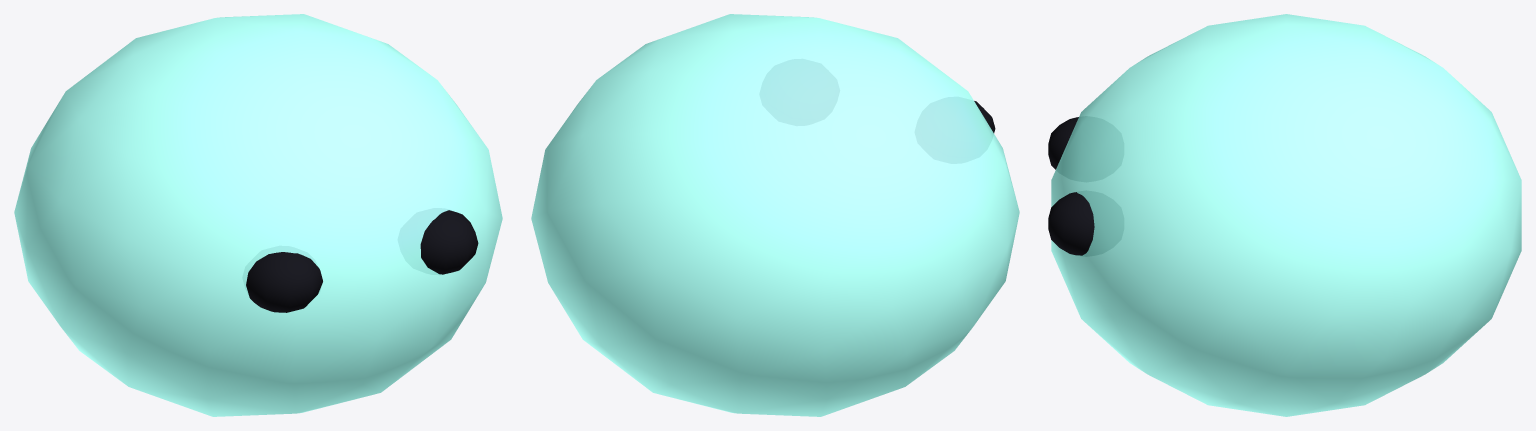
File: butoijo.glb
3 views of the same model, side by side, from view 1: azimuth 30°, elevation 25°; view 2: azimuth 150°, elevation 25°; view 3: azimuth 270°, elevation 25° (orthographic).
Visible parts, largest first — view 1: core; view 2: core; view 3: core.
Part boxes in pixels (x1=…): core: x1=14, y1=14, x2=502, y2=416; core: x1=531, y1=14, x2=1019, y2=416; core: x1=1048, y1=14, x2=1521, y2=416.
Size of the model in its own units: 1.18 by 0.9403 by 1.18.
